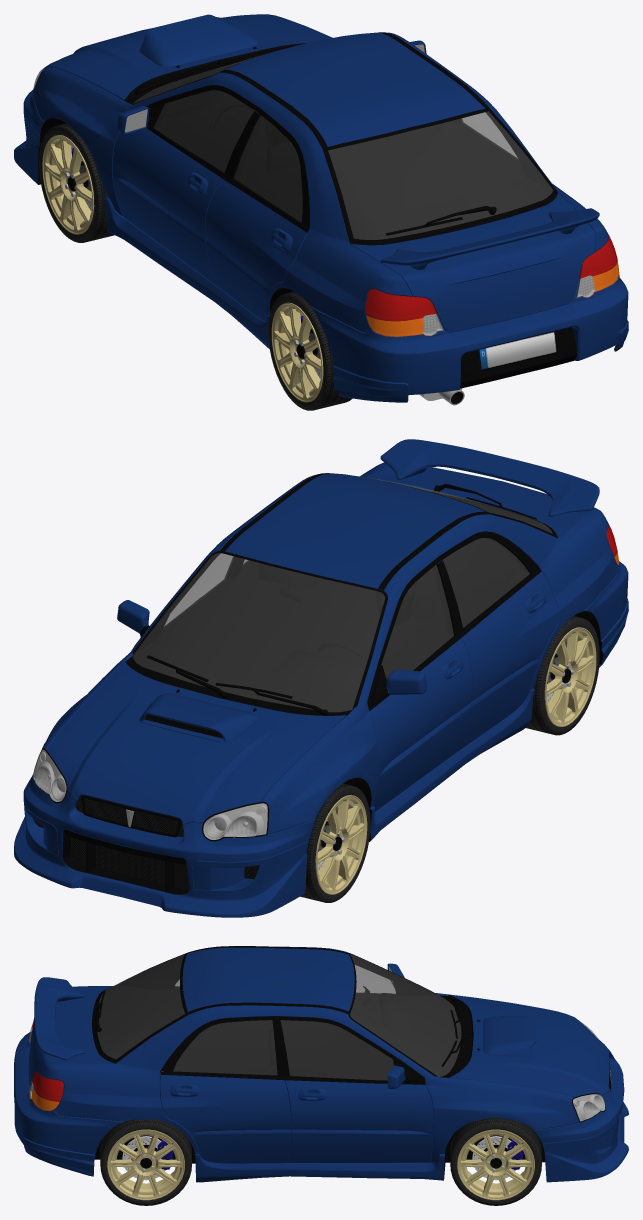
File: toyama_xr.glb
The picture shows the model from 3 angles, top to bottom: view 1: azimuth 30°, elevation 25°; view 2: azimuth 150°, elevation 25°; view 3: azimuth 270°, elevation 25°; orthographic projection. The views are drawn at different scales.
Parts seen in each view (by area): view 1: body.001, wheel_FL.001, wheel_RL.001; view 2: body.001, wheel_RL.001, wheel_FL.001; view 3: body.001, wheel_FR.001, wheel_RR.001.
Boxes of the visible parts, left/top/right/bottom form: body.001: left=14, top=14, right=628, bottom=405; wheel_FL.001: left=39, top=123, right=114, bottom=242; wheel_RL.001: left=268, top=291, right=352, bottom=410; body.001: left=14, top=439, right=628, bottom=917; wheel_RL.001: left=526, top=616, right=599, bottom=735; wheel_FL.001: left=300, top=783, right=370, bottom=902; body.001: left=14, top=946, right=628, bottom=1182; wheel_FR.001: left=450, top=1118, right=541, bottom=1205; wheel_RR.001: left=100, top=1119, right=191, bottom=1205.
Size of the model in its own units: 1.95 by 1.45 by 4.44.
Materials: 10 (2 with a texture image).
